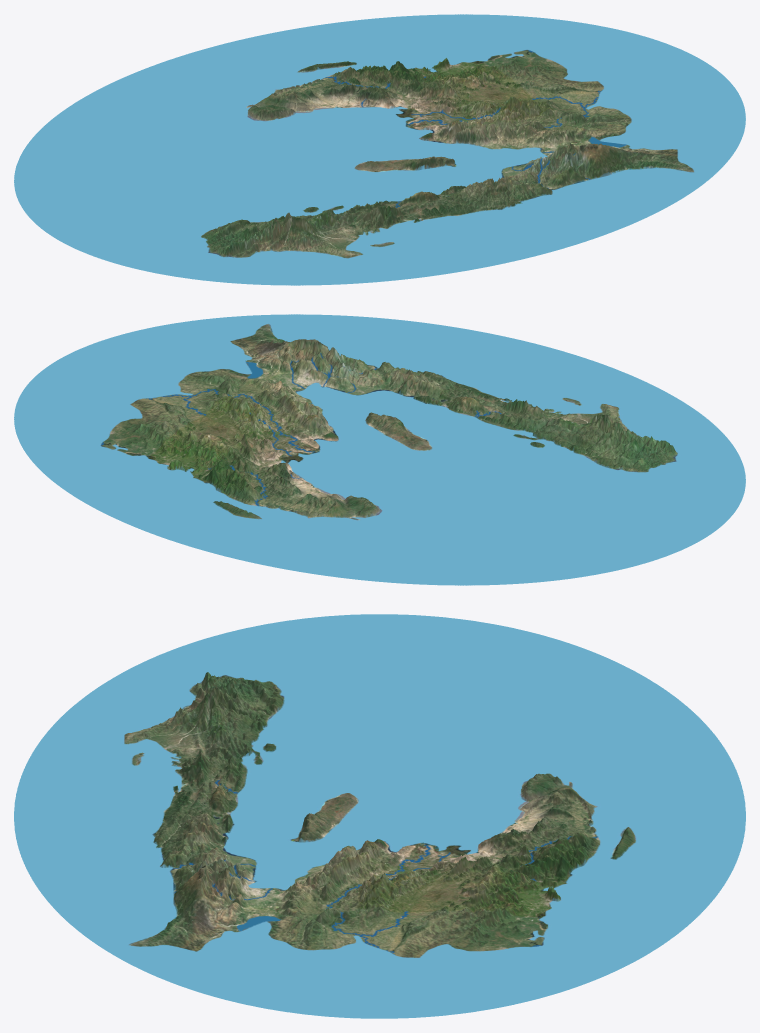
Rendered from HTI-previa-terrain.glb.
3 views of the same model, one above another, from view 1: azimuth 30°, elevation 25°; view 2: azimuth 150°, elevation 25°; view 3: azimuth 270°, elevation 25° (orthographic). The views are drawn at different scales.
Visible parts, largest first — view 1: Haiti; view 2: Haiti; view 3: Haiti.
Part boxes in pixels (x1,y1,x2,y2): Haiti: (14, 14, 745, 285); Haiti: (14, 314, 745, 585); Haiti: (14, 614, 745, 1018).
Bounding box in the file's own units: 2.52 × 0.09 × 1.93.
Materials: 1 (1 with a texture image).
